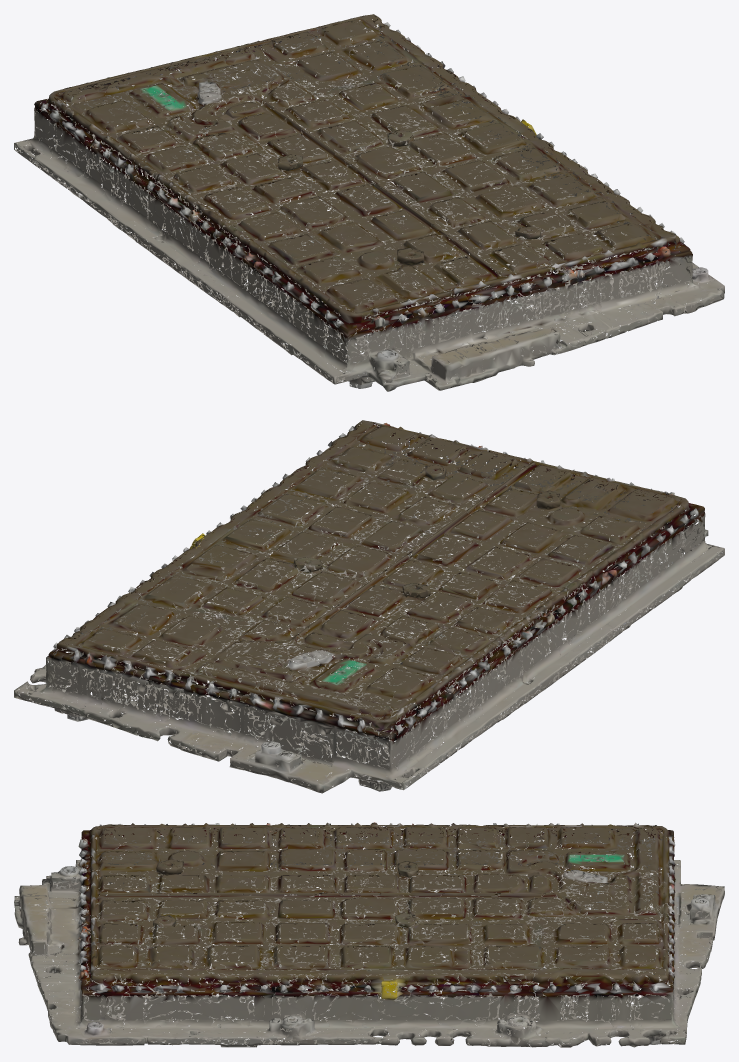
File: bev_battery_optimized.glb
3 renders of one model, top to bottom at view 1: azimuth 30°, elevation 25°; view 2: azimuth 150°, elevation 25°; view 3: azimuth 270°, elevation 25°, orthographic. The views are drawn at different scales.
Parts seen in each view (by area): view 1: Object_3, Object_2, Object_10, Object_13, Object_12, Object_6, Object_7, Object_4, Object_8, Object_11, Object_9, Object_5 (+1 smaller); view 2: Object_6, Object_2, Object_13, Object_8, Object_9, Object_7, Object_3, Object_5, Object_4, Object_11, Object_10, Object_12 (+1 smaller); view 3: Object_3, Object_9, Object_10, Object_8, Object_6, Object_11, Object_2, Object_4, Object_13, Object_12, Object_5, Object_7 (+1 smaller).
Boxes of the visible parts, x1=… form: Object_3: x1=297, y1=75, x2=714, y2=388; Object_2: x1=15, y1=62, x2=507, y2=386; Object_10: x1=259, y1=48, x2=685, y2=391; Object_13: x1=190, y1=177, x2=499, y2=372; Object_12: x1=257, y1=189, x2=724, y2=388; Object_6: x1=14, y1=47, x2=547, y2=320; Object_7: x1=17, y1=59, x2=424, y2=290; Object_4: x1=176, y1=67, x2=721, y2=362; Object_8: x1=135, y1=16, x2=473, y2=300; Object_11: x1=340, y1=75, x2=706, y2=345; Object_9: x1=153, y1=14, x2=656, y2=238; Object_5: x1=115, y1=14, x2=524, y2=271; Object_6: x1=124, y1=526, x2=567, y2=793; Object_2: x1=210, y1=465, x2=710, y2=790; Object_13: x1=395, y1=462, x2=705, y2=658; Object_8: x1=14, y1=500, x2=598, y2=751; Object_9: x1=15, y1=473, x2=363, y2=756; Object_7: x1=136, y1=596, x2=606, y2=791; Object_3: x1=144, y1=421, x2=723, y2=631; Object_5: x1=18, y1=570, x2=566, y2=761; Object_4: x1=104, y1=439, x2=698, y2=686; Object_11: x1=185, y1=420, x2=533, y2=641; Object_10: x1=103, y1=424, x2=724, y2=698; Object_12: x1=268, y1=420, x2=722, y2=611; Object_3: x1=16, y1=827, x2=548, y2=1044; Object_9: x1=191, y1=889, x2=711, y2=1047; Object_10: x1=14, y1=833, x2=588, y2=1047; Object_8: x1=211, y1=822, x2=711, y2=1046; Object_6: x1=133, y1=822, x2=724, y2=1007; Object_11: x1=30, y1=885, x2=537, y2=1047; Object_2: x1=84, y1=825, x2=724, y2=966; Object_4: x1=31, y1=825, x2=541, y2=1045; Object_13: x1=78, y1=823, x2=374, y2=958; Object_12: x1=28, y1=824, x2=280, y2=1045; Object_5: x1=369, y1=827, x2=712, y2=1045; Object_7: x1=391, y1=823, x2=716, y2=1002.
Size of the model in its own units: 0.6018 by 0.1224 by 0.9978.
